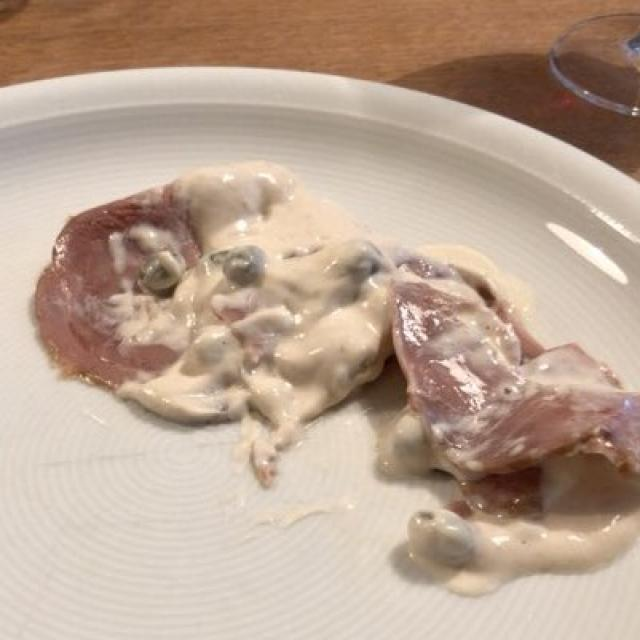capers: (119, 224, 489, 573)
mayonnaise: (143, 137, 596, 570)
